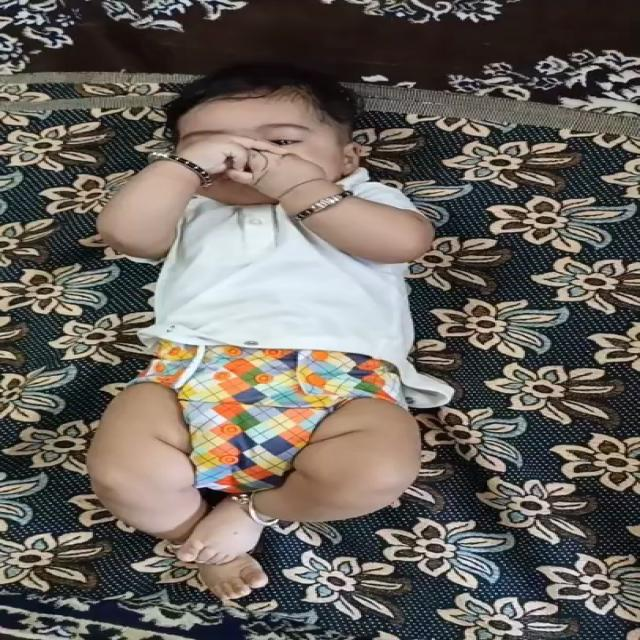baby: (77, 61, 431, 604)
